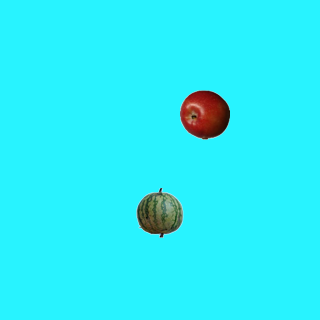Apple Braeburn: (179, 89, 229, 139)
Watermelon: (134, 187, 184, 237)
